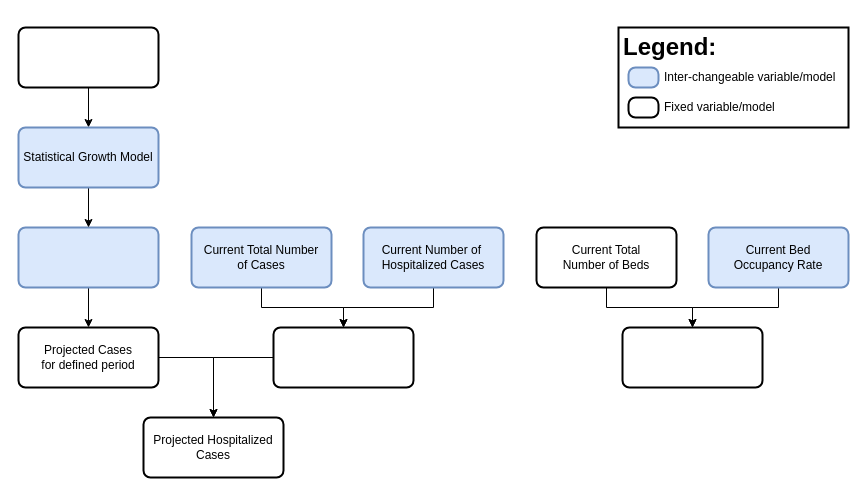
The diagram is 866 pixels wide and 495 high, and some of its shapes have lost their labels. The shapes that lost their labels are listed below. From the top down, each one's centre as x and y in pixels, then its label:
point 88,57: Previous Data on Number of Cases
point 88,257: Defined Period of Data Projection
point 343,357: Current Hospitalization Rate
point 692,357: Current Available Beds
